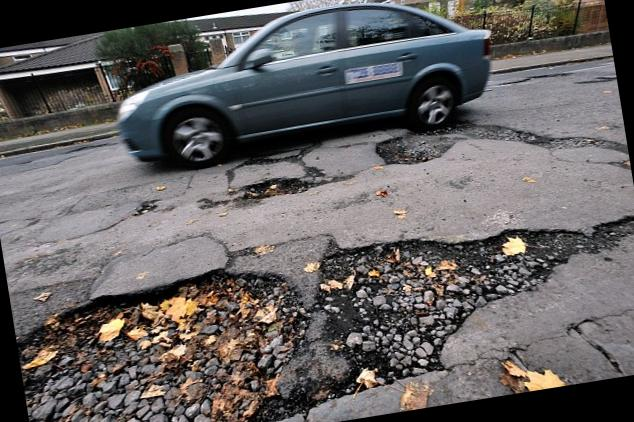pothole: (289, 161, 634, 406), (10, 246, 331, 422), (358, 72, 620, 200), (232, 159, 329, 216), (122, 182, 176, 236), (240, 143, 323, 174), (499, 62, 573, 94), (63, 135, 123, 166), (564, 68, 618, 94), (15, 154, 45, 172)
